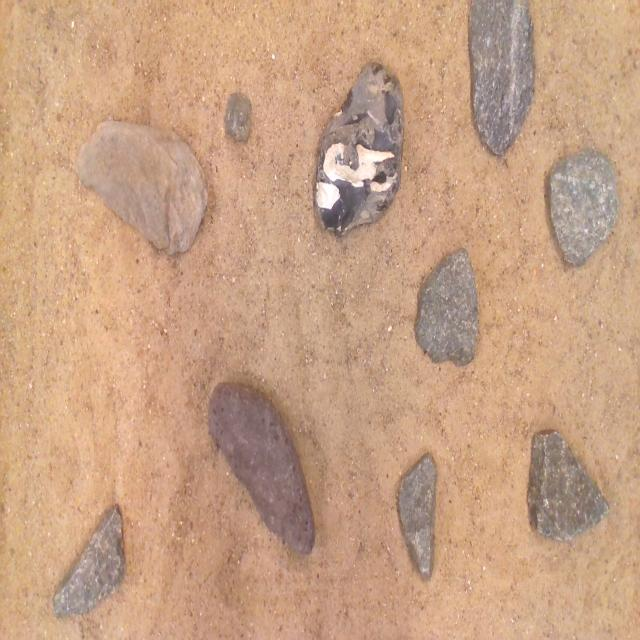rock: (208, 383, 315, 553), (77, 121, 207, 254), (316, 62, 403, 233), (469, 0, 534, 155), (528, 431, 608, 540), (550, 149, 619, 265), (53, 505, 125, 616), (415, 249, 477, 366), (398, 455, 435, 579), (224, 94, 251, 142)
